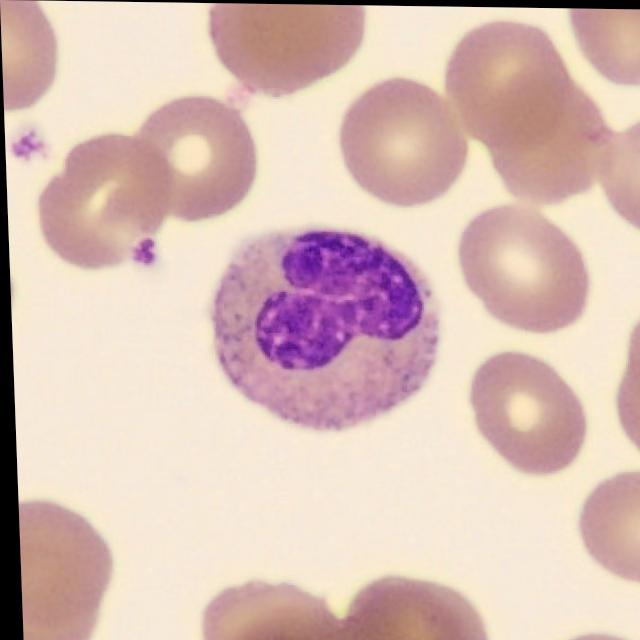Bastonete: (207, 225, 439, 429)
